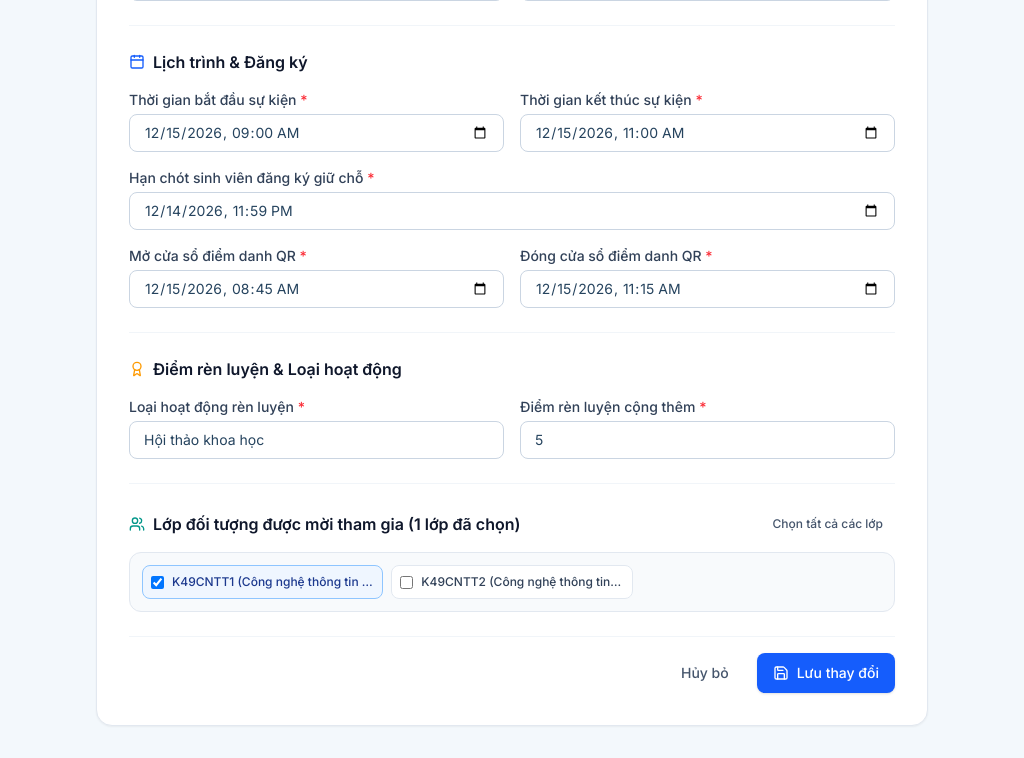
Test: EventFormPage edit flow [QE-65] › shows the server error of the invalid field (details.fields)
(page scrolled)
What coordinates should you click on to do the following:
click the button "Lưu thay đổi"
I would click on:
 (826, 673)
Its box is top-left (757, 653), bottom-right (895, 693).
(page scrolled)
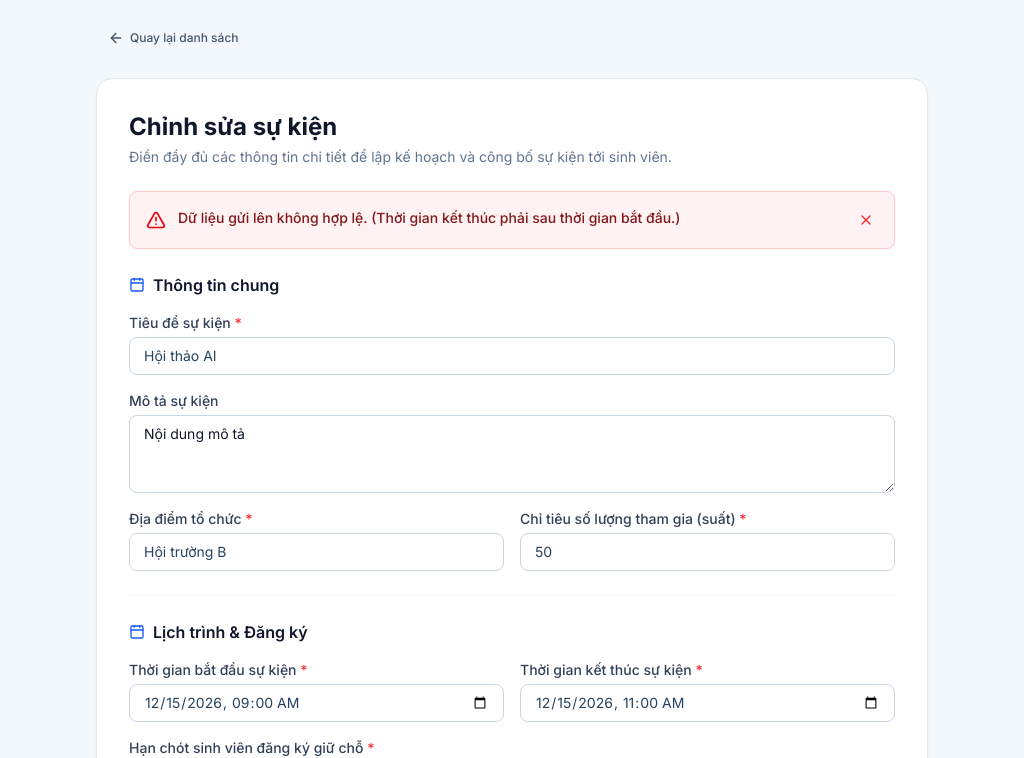
Result: the message shows "Thời gian kết thúc phải sau thời gian bắt đầu." at top-left (178, 209), bottom-right (680, 226)
